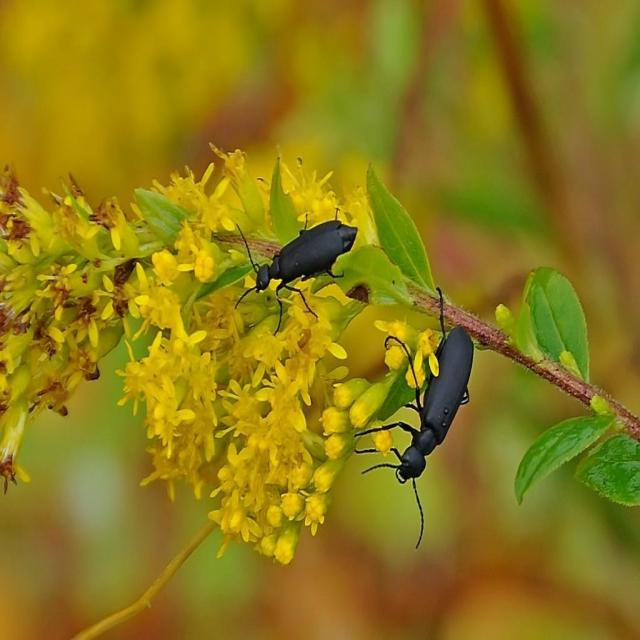BlisterBeetle-Adult-: (359, 281, 483, 492), (222, 212, 362, 320)
